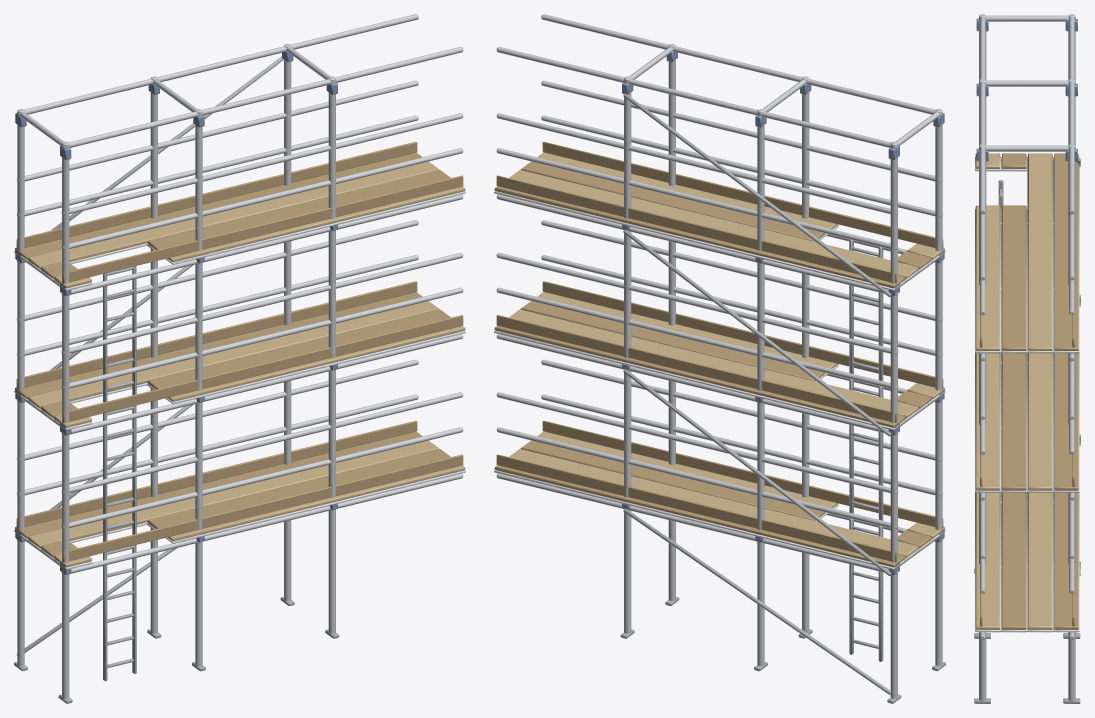
The model's file is th21_geruest_modul.glb.
3 views of the same model, side by side, from view 1: azimuth 30°, elevation 25°; view 2: azimuth 150°, elevation 25°; view 3: azimuth 270°, elevation 25° (orthographic).
Parts seen in each view (by area): view 1: Cube.066, Cube.038, Cube.043, Cube.052, Cube.071, Cube.057, Cube.070, Cylinder, Cube.042, Cube.056, Cylinder.002, Cylinder.006 (+34 smaller); view 2: Cube.042, Cube.056, Cube.070, Cube.052, Cube.038, Cube.066, Cube.071, Cylinder.002, Cylinder, Cube.043, Cube.057, Cylinder.004 (+36 smaller); view 3: Cube.066, Cube.068, Cube.064, Cube.038, Cube.036, Cube.050, Cube.052, Cube.060, Cube.046, Cube.032, Cube.054, Cube.040 (+33 smaller).
Boxes of the visible parts, box(x1,y1,x2,y2) form: Cube.066: box(28, 161, 439, 269); Cube.038: box(28, 440, 439, 548); Cube.043: box(63, 454, 463, 562); Cube.052: box(28, 301, 439, 408); Cube.071: box(63, 175, 463, 283); Cube.057: box(63, 315, 463, 422); Cube.070: box(16, 141, 417, 249); Cylinder: box(17, 109, 24, 666); Cube.042: box(16, 420, 417, 528); Cube.056: box(16, 281, 417, 388); Cylinder.002: box(62, 141, 69, 698); Cylinder.006: box(195, 109, 202, 666); Cube.042: box(496, 454, 896, 562); Cube.056: box(496, 315, 896, 422); Cube.070: box(496, 175, 896, 283); Cube.052: box(509, 309, 918, 418); Cube.038: box(509, 449, 918, 557); Cube.066: box(509, 170, 918, 278); Cube.071: box(542, 141, 943, 249); Cylinder.002: box(935, 109, 942, 666); Cylinder: box(890, 141, 897, 698); Cube.043: box(542, 420, 943, 528); Cube.057: box(542, 281, 943, 388); Cylinder.004: box(757, 109, 764, 666); Cube.066: box(1028, 153, 1052, 350); Cube.068: box(1054, 153, 1078, 350); Cube.064: box(1002, 205, 1026, 350); Cube.038: box(1028, 492, 1052, 629); Cube.036: box(1002, 492, 1026, 629); Cube.050: box(1002, 353, 1026, 490); Cube.052: box(1028, 353, 1052, 490); Cube.060: box(975, 205, 1000, 350); Cube.046: box(975, 353, 1000, 490); Cube.032: box(975, 492, 1000, 629); Cube.054: box(1054, 353, 1078, 490); Cube.040: box(1054, 492, 1078, 629).
Size of the model in its own units: 6 by 8 by 1.39.
